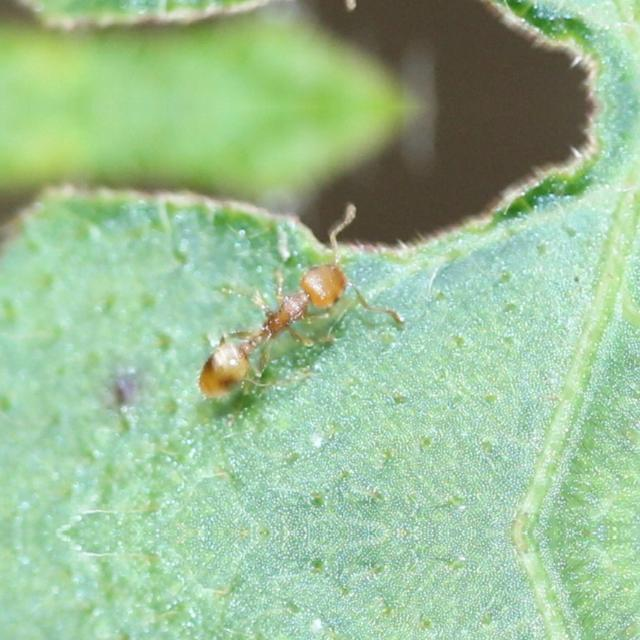Temnothorax: (175, 224, 405, 406)
